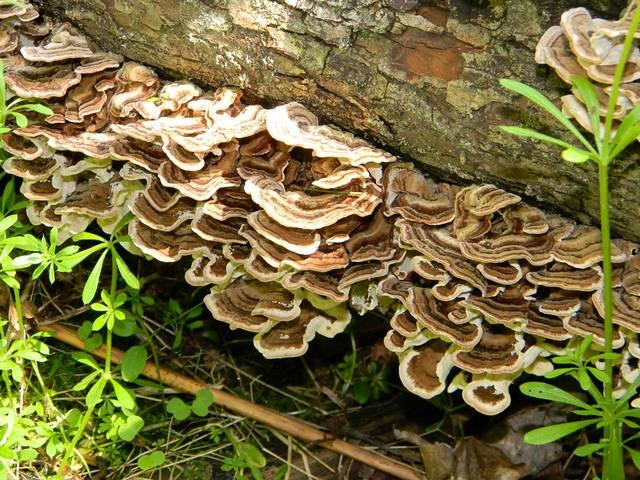Non-edible Mushroom: (0, 1, 639, 417), (533, 1, 639, 134)
